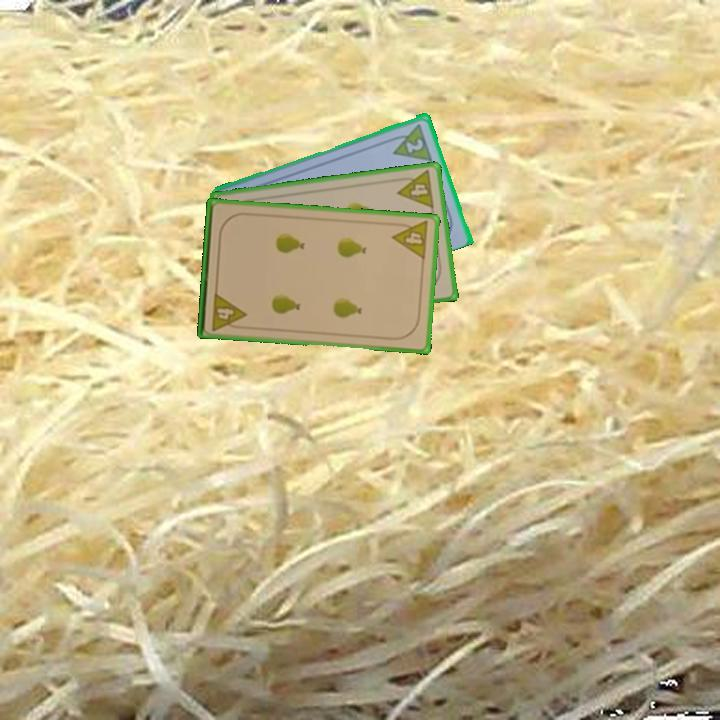2p: (402, 134, 427, 156)
4p: (392, 167, 437, 211), (389, 218, 431, 262), (208, 289, 248, 333)
